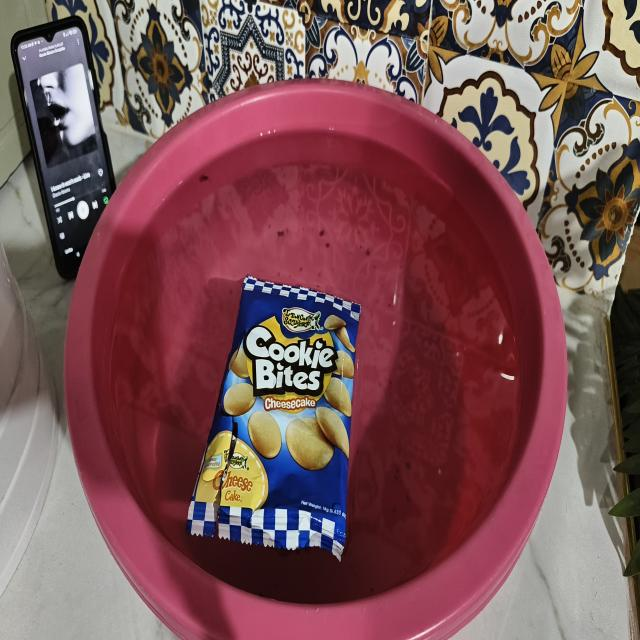Plastic Wrapper: (187, 276, 360, 560)
